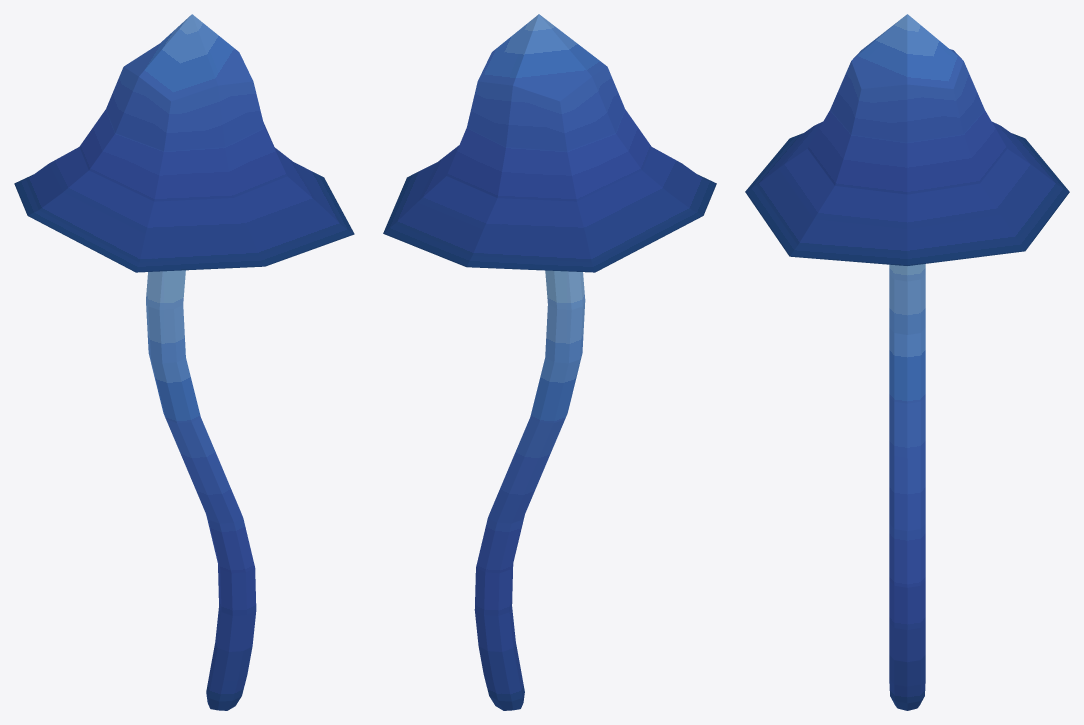
Rendered from BluePinkgill_medium.glb.
3 views of the same model, side by side, from view 1: azimuth 30°, elevation 25°; view 2: azimuth 150°, elevation 25°; view 3: azimuth 270°, elevation 25° (orthographic). The views are drawn at different scales.
Visible parts, largest first — view 1: Cube.003; view 2: Cube.003; view 3: Cube.003.
Boxes of the visible parts, x1=… form: Cube.003: x1=14, y1=14, x2=354, y2=710; Cube.003: x1=383, y1=14, x2=716, y2=710; Cube.003: x1=745, y1=14, x2=1069, y2=710.
Size of the model in its own units: 3.6 by 8.16 by 3.53.
Materials: 1 (1 with a texture image).
